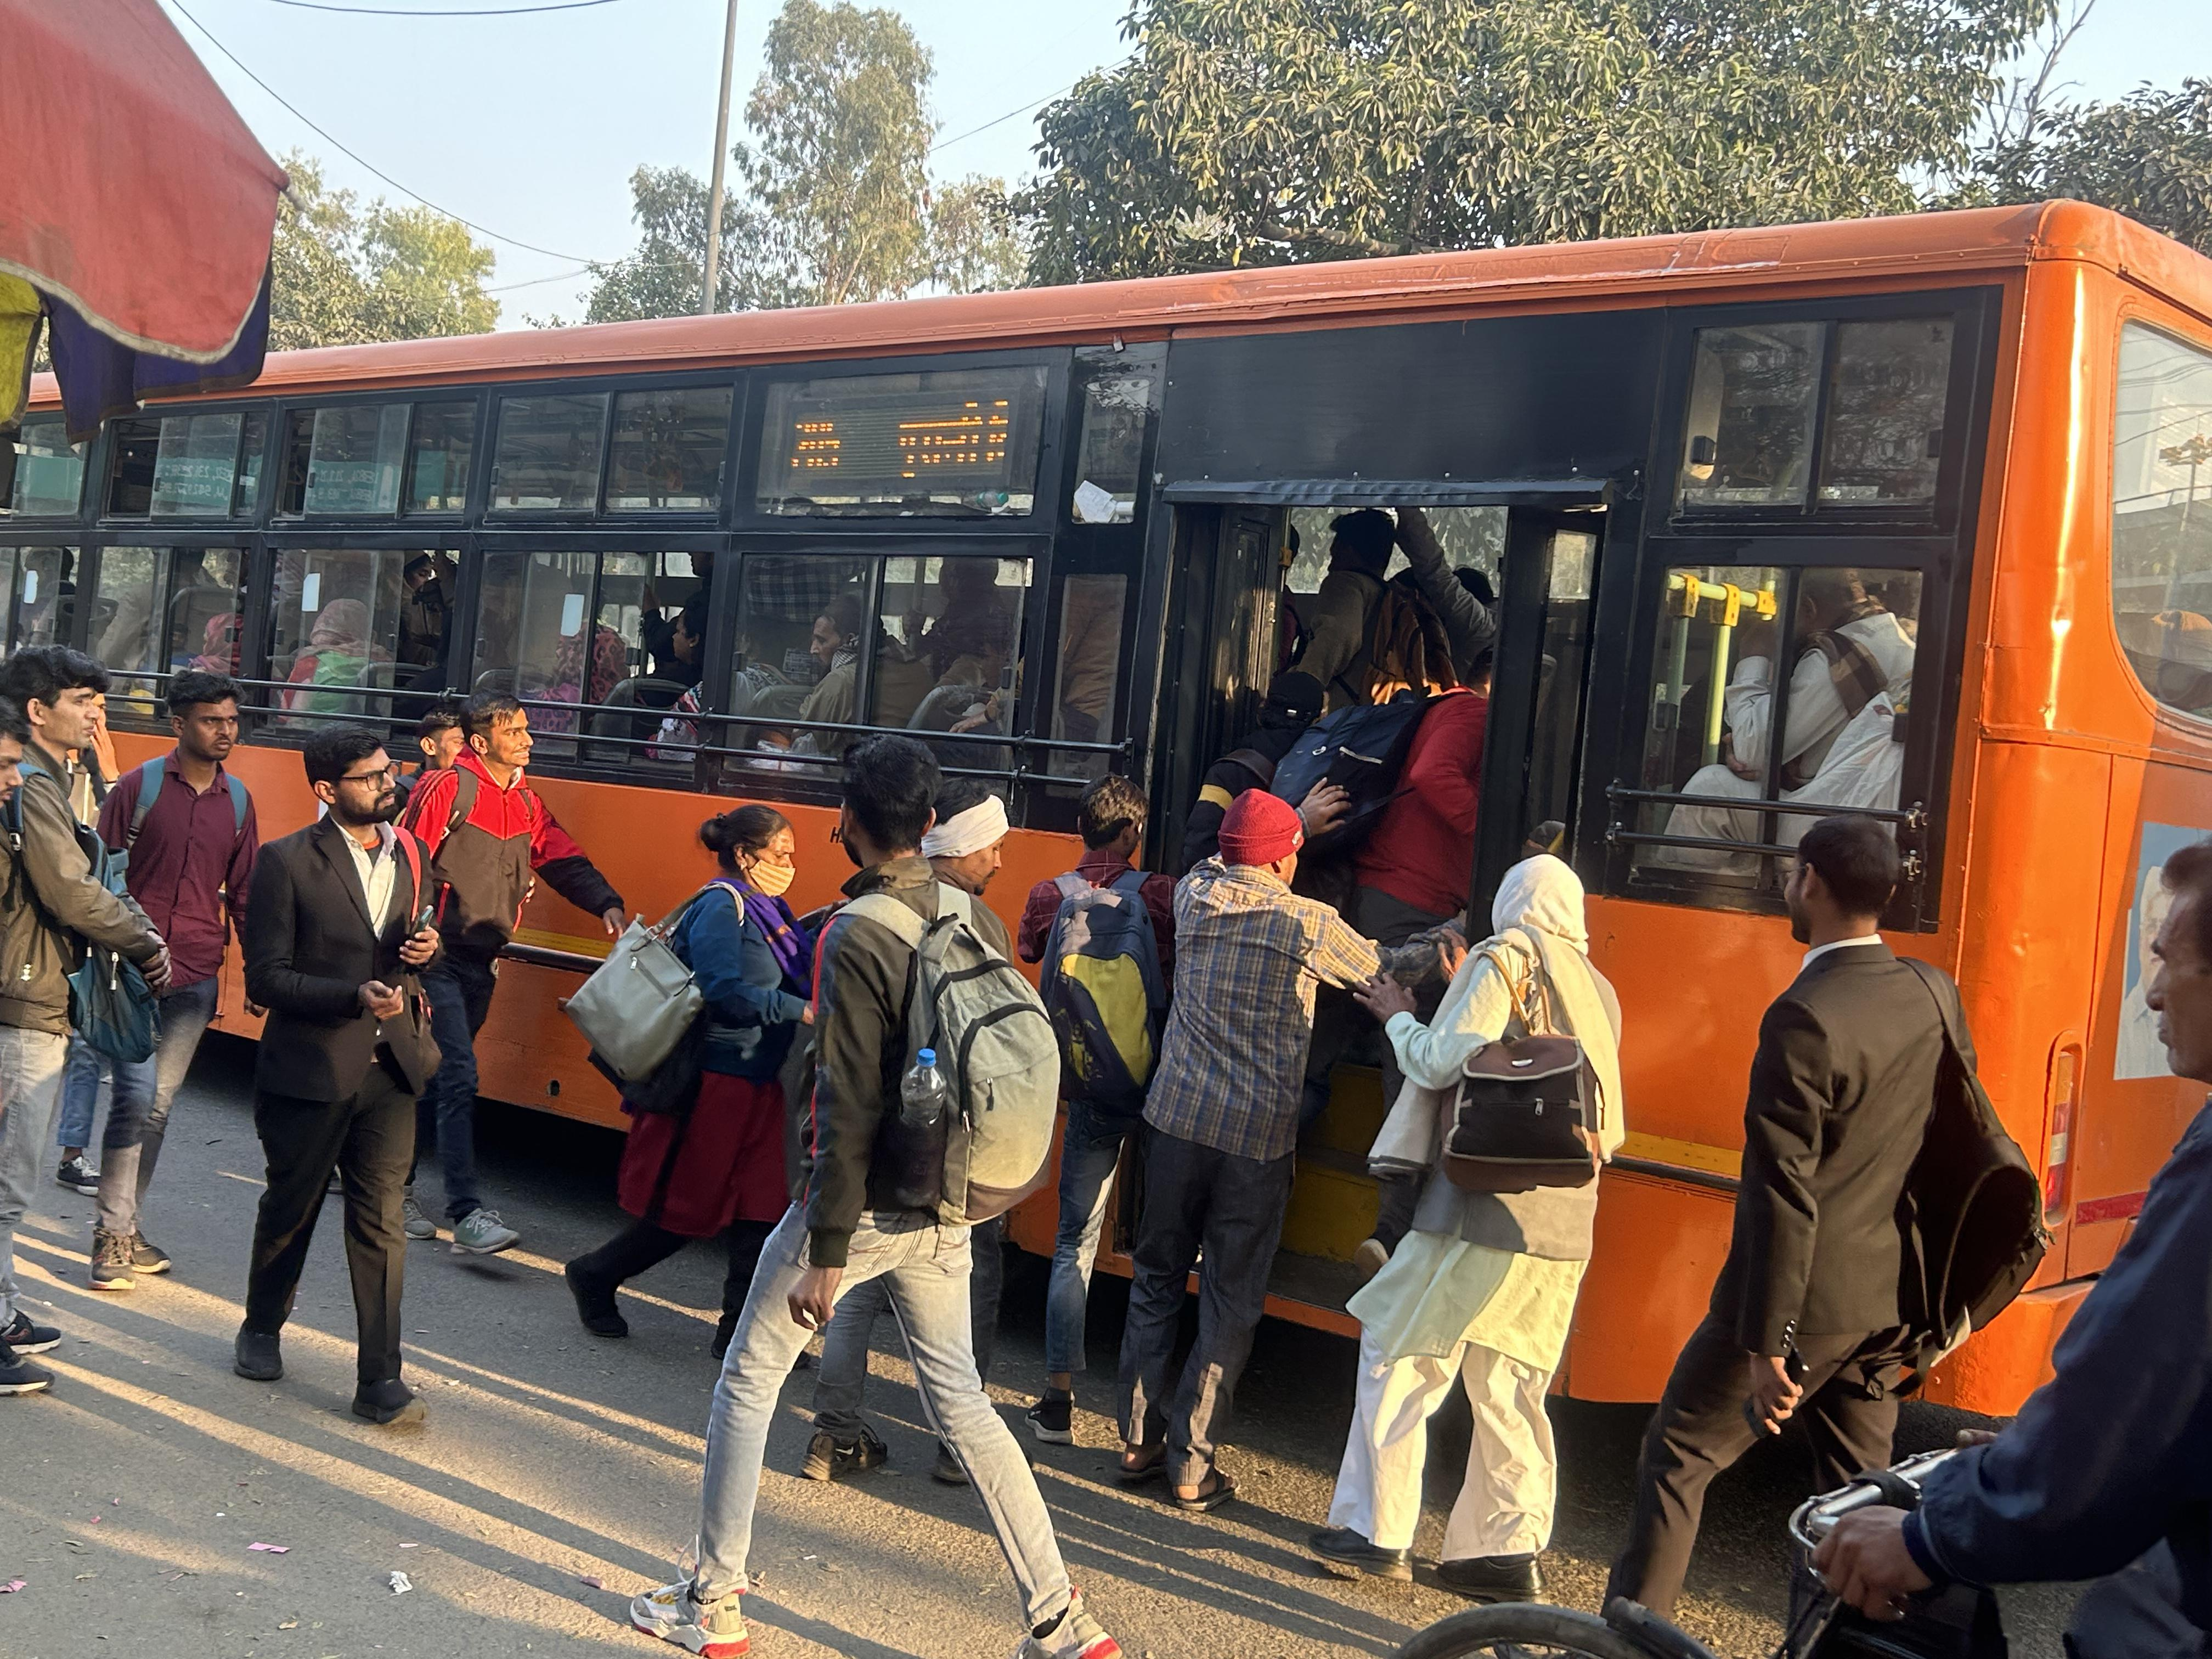Bus: (0, 291, 2212, 1410)
Display Board: (745, 350, 1108, 559)
